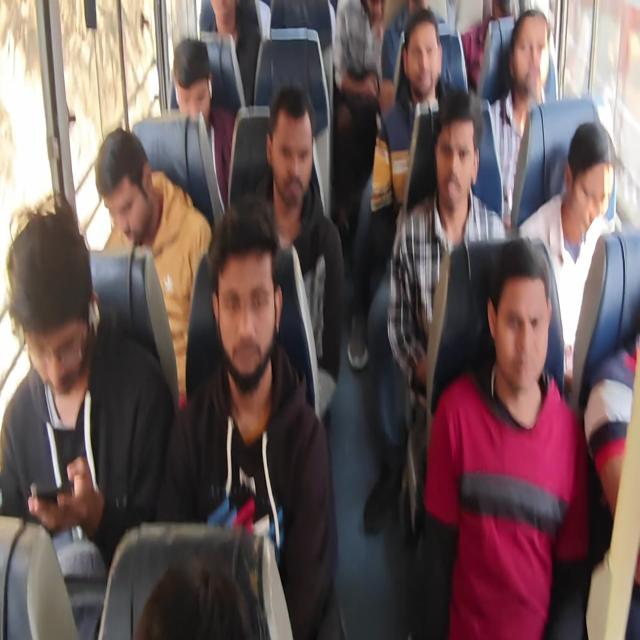person: (222, 265, 291, 378), (98, 150, 169, 242), (484, 280, 546, 378), (8, 235, 71, 328), (565, 124, 613, 218), (436, 112, 484, 195), (161, 44, 213, 114), (510, 19, 557, 91), (268, 109, 304, 171), (402, 33, 444, 84), (200, 0, 240, 29)
